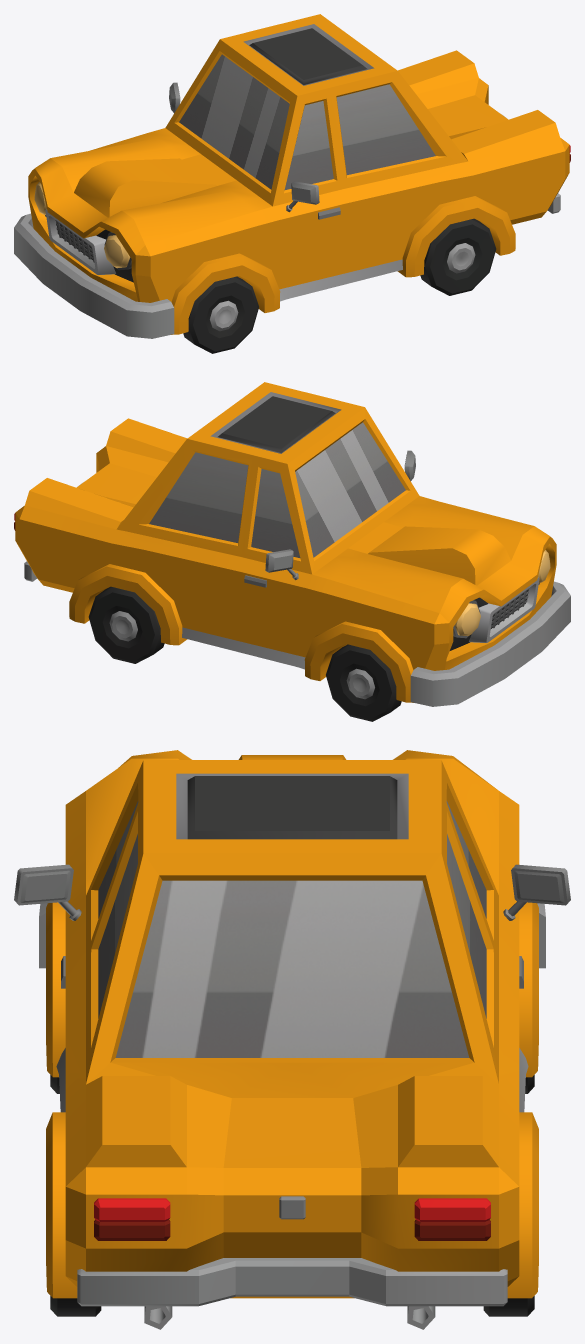
The model's file is Car_17_A.gltf.
3 views of the same model, one above another, from view 1: azimuth 30°, elevation 25°; view 2: azimuth 150°, elevation 25°; view 3: azimuth 270°, elevation 25° (orthographic). The views are drawn at different scales.
Visible parts, largest first — view 1: Car_17_A, RL, FL; view 2: Car_17_A, RR, FR; view 3: Car_17_A, RL, RR.
Part boxes in pixels (x1,y1,x2,y2): Car_17_A: (14, 14, 570, 338); RL: (420, 218, 496, 295); FL: (183, 276, 258, 353); Car_17_A: (14, 382, 570, 706); RR: (88, 586, 164, 663); FR: (326, 644, 401, 721); Car_17_A: (14, 750, 570, 1329); RL: (50, 1296, 101, 1316); RR: (483, 1296, 534, 1316).
Bounding box in the file's own units: 3.39 × 1.53 × 1.85.
Materials: 4 (4 with a texture image).
